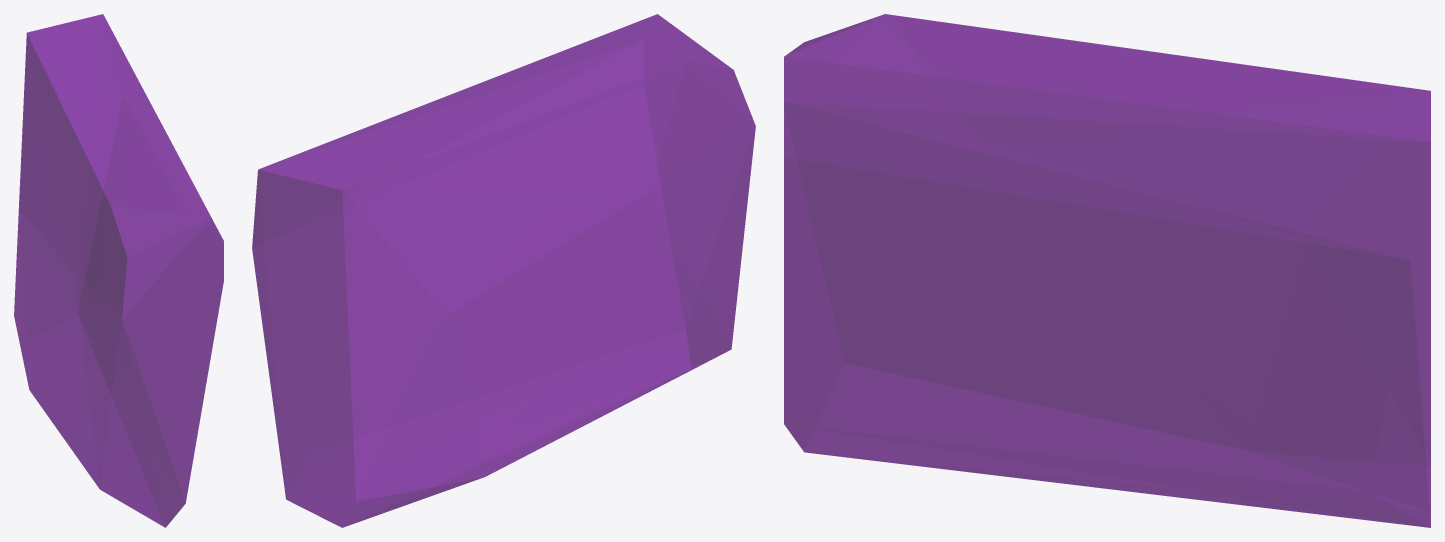
3 renders of one model, left to right at view 1: azimuth 30°, elevation 25°; view 2: azimuth 150°, elevation 25°; view 3: azimuth 270°, elevation 25°, orthographic. The views are drawn at different scales.
Parts seen in each view (by area): view 1: Shape_IndexedFaceSet.036_Shape_IndexedFaceSet.10746; view 2: Shape_IndexedFaceSet.036_Shape_IndexedFaceSet.10746; view 3: Shape_IndexedFaceSet.036_Shape_IndexedFaceSet.10746.
Boxes of the visible parts, x1,y1,x2,y2 form: Shape_IndexedFaceSet.036_Shape_IndexedFaceSet.10746: (14, 14, 223, 527); Shape_IndexedFaceSet.036_Shape_IndexedFaceSet.10746: (252, 14, 755, 527); Shape_IndexedFaceSet.036_Shape_IndexedFaceSet.10746: (784, 14, 1430, 527).
Size of the model in its own units: 0.0594 by 0.076 by 0.1057.
